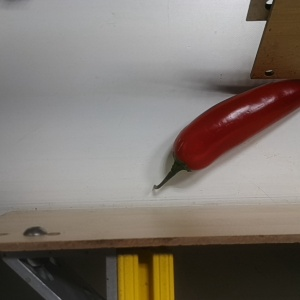Cut Point: (164, 140, 202, 174)
